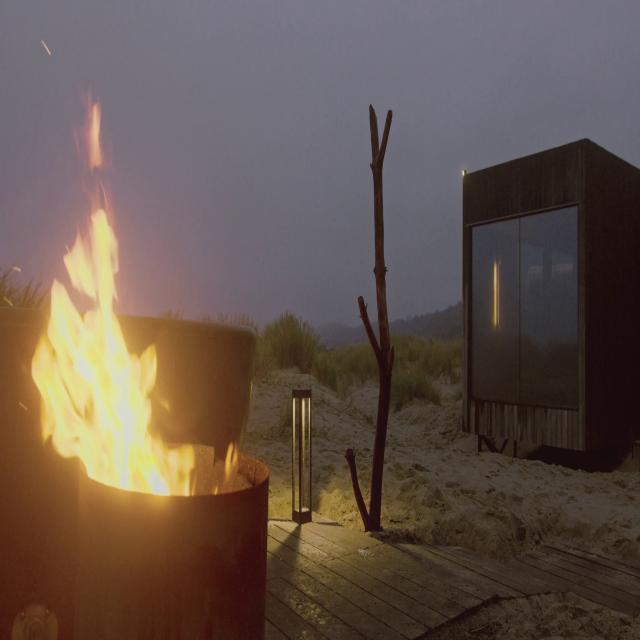Fire: (34, 186, 186, 498)
